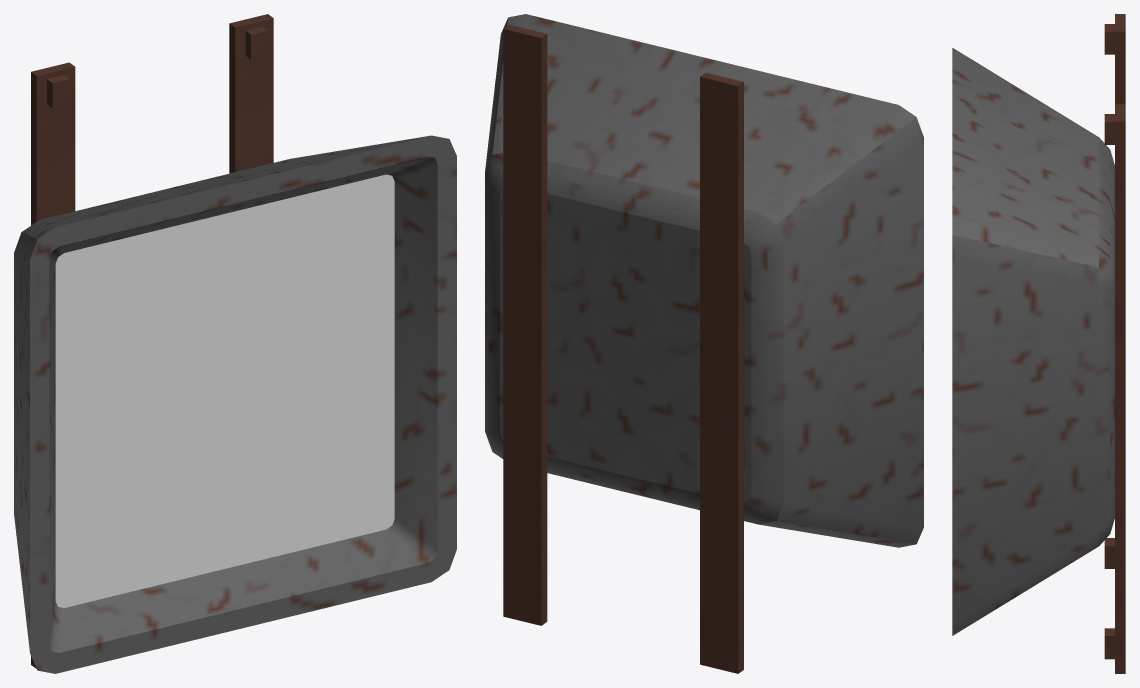
Rendered from BigLamp.fbx.
3 renders of one model, left to right at view 1: azimuth 30°, elevation 25°; view 2: azimuth 150°, elevation 25°; view 3: azimuth 270°, elevation 25°, orthographic. The views are drawn at different scales.
Visible parts, largest first — view 1: Cube.065; view 2: Cube.065; view 3: Cube.065.
Boxes of the visible parts, bbox=[...] form: Cube.065: bbox=[14, 14, 456, 673]; Cube.065: bbox=[485, 14, 923, 673]; Cube.065: bbox=[952, 14, 1125, 673].
Bounding box in the file's own units: 137 × 183 × 52.01.
